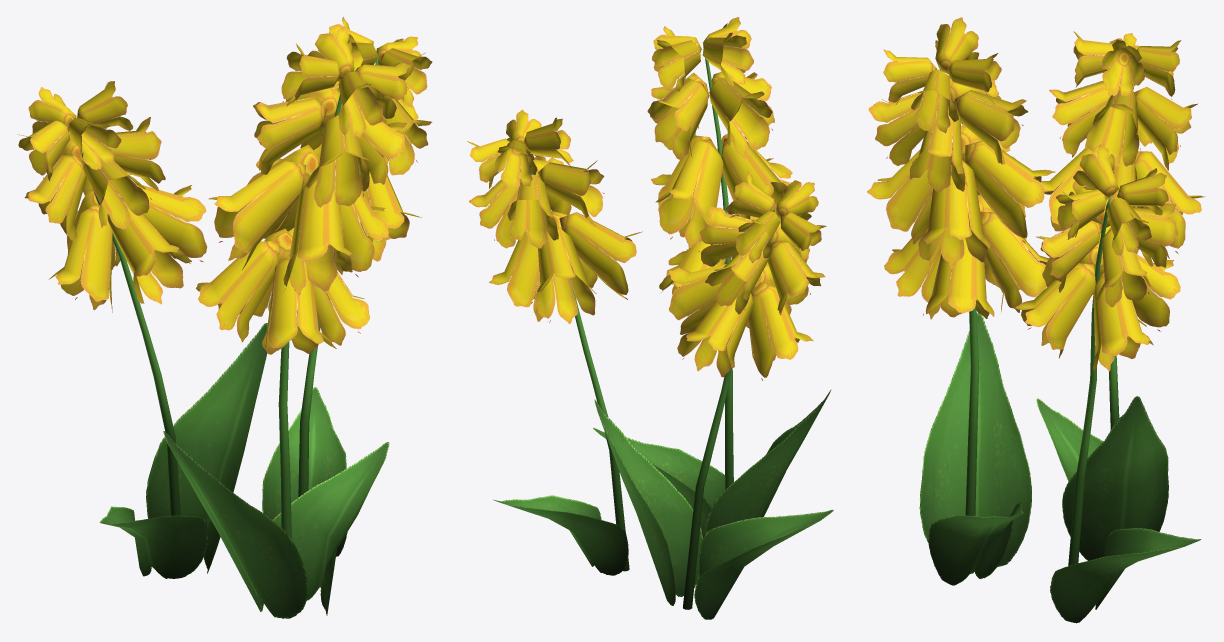
The model's file is Flower_4_Group.gltf.
The picture shows the model from 3 angles, left to right: view 1: azimuth 30°, elevation 25°; view 2: azimuth 150°, elevation 25°; view 3: azimuth 270°, elevation 25°; orthographic projection. The views are drawn at different scales.
Parts seen in each view (by area): view 1: Flower_4_Group; view 2: Flower_4_Group; view 3: Flower_4_Group.
Part boxes in pixels (x1,y1,x2,y2): Flower_4_Group: (17, 17, 432, 618); Flower_4_Group: (467, 17, 833, 619); Flower_4_Group: (867, 17, 1205, 623).
Bounding box in the file's own units: 1.78 × 2.49 × 1.37.
2 materials, 2 textured.
